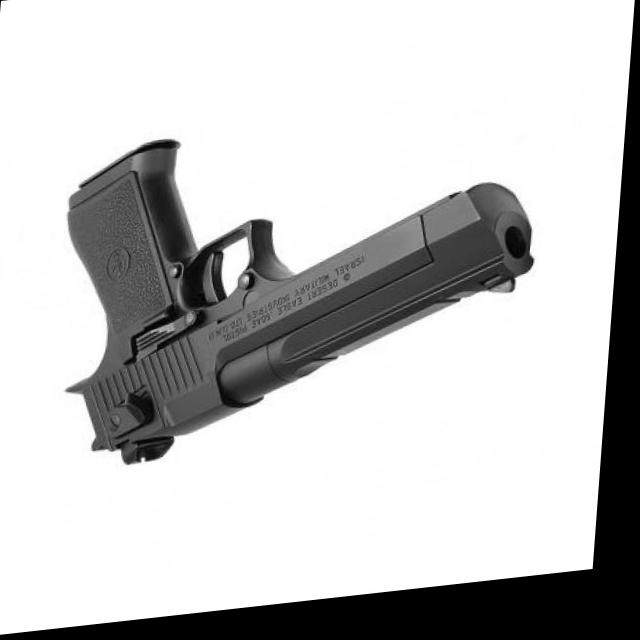handgun: (49, 60, 551, 480)
